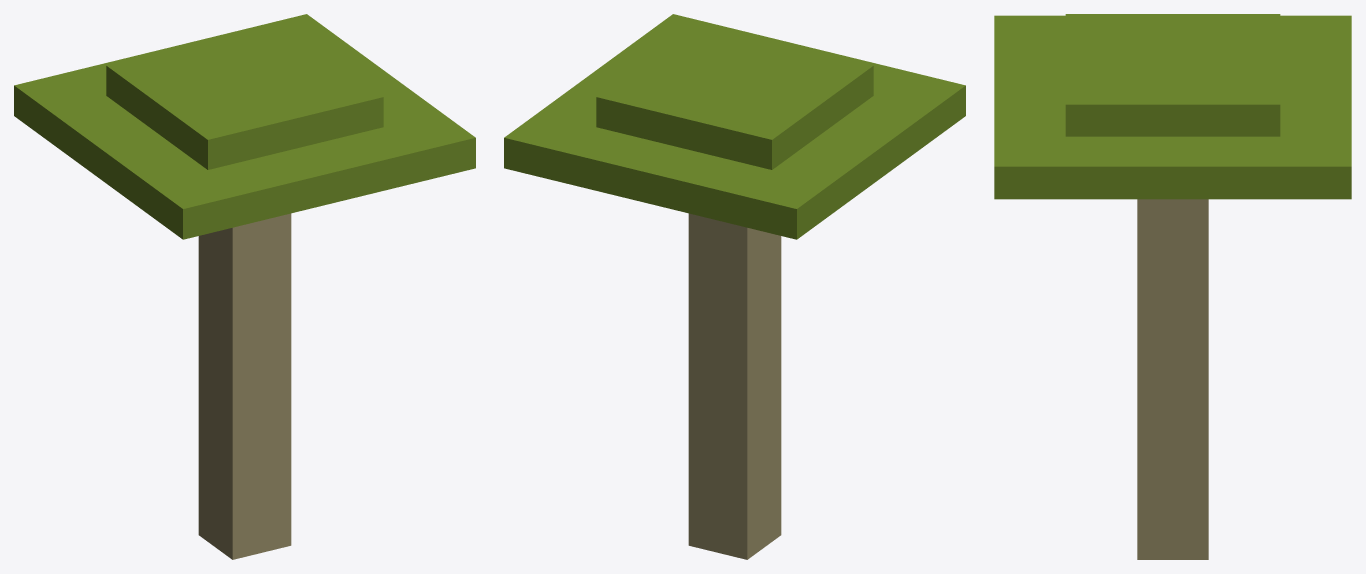
Rendered from Type_Tree_2.glb.
The picture shows the model from 3 angles, left to right: view 1: azimuth 30°, elevation 25°; view 2: azimuth 150°, elevation 25°; view 3: azimuth 270°, elevation 25°; orthographic projection. The views are drawn at different scales.
Visible parts, largest first — view 1: cube.001; view 2: cube.001; view 3: cube.001.
Boxes of the visible parts, <box> form: cube.001: <box>14,14,475,559</box>; cube.001: <box>504,14,965,559</box>; cube.001: <box>994,14,1351,559</box>.
Size of the model in its own units: 0.625 by 0.9365 by 0.625.
1 material, 1 textured.
